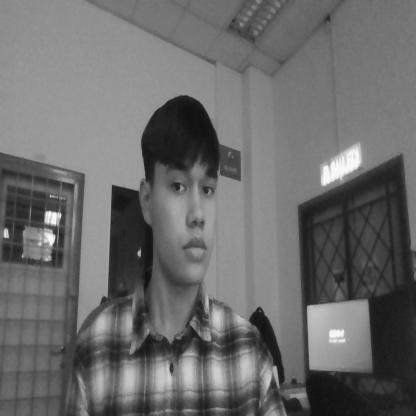Open-Eyes: (160, 161, 223, 205)
